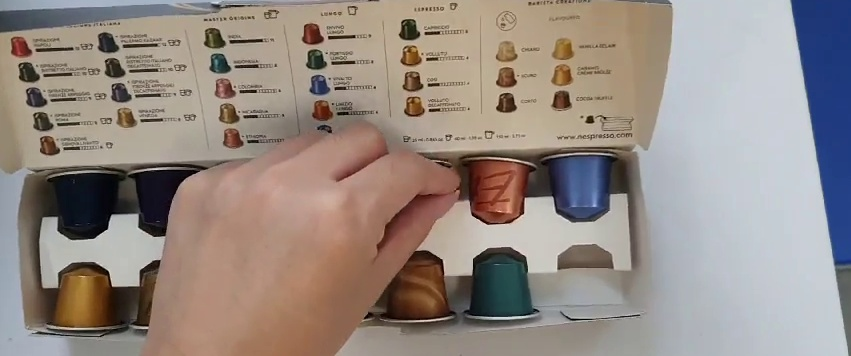capsule_6: (457, 149, 538, 226)
